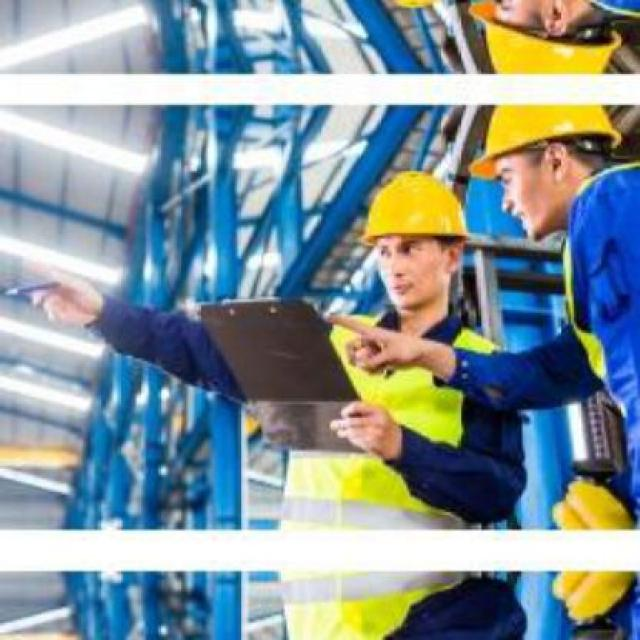helmet: (473, 102, 629, 239), (352, 160, 470, 310), (472, 0, 630, 77)
